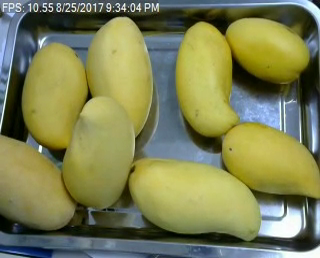Mango: (128, 159, 262, 240), (62, 96, 135, 210), (85, 17, 152, 138), (175, 21, 241, 137), (222, 123, 320, 199), (20, 42, 88, 150), (0, 134, 76, 230), (225, 17, 310, 83)
